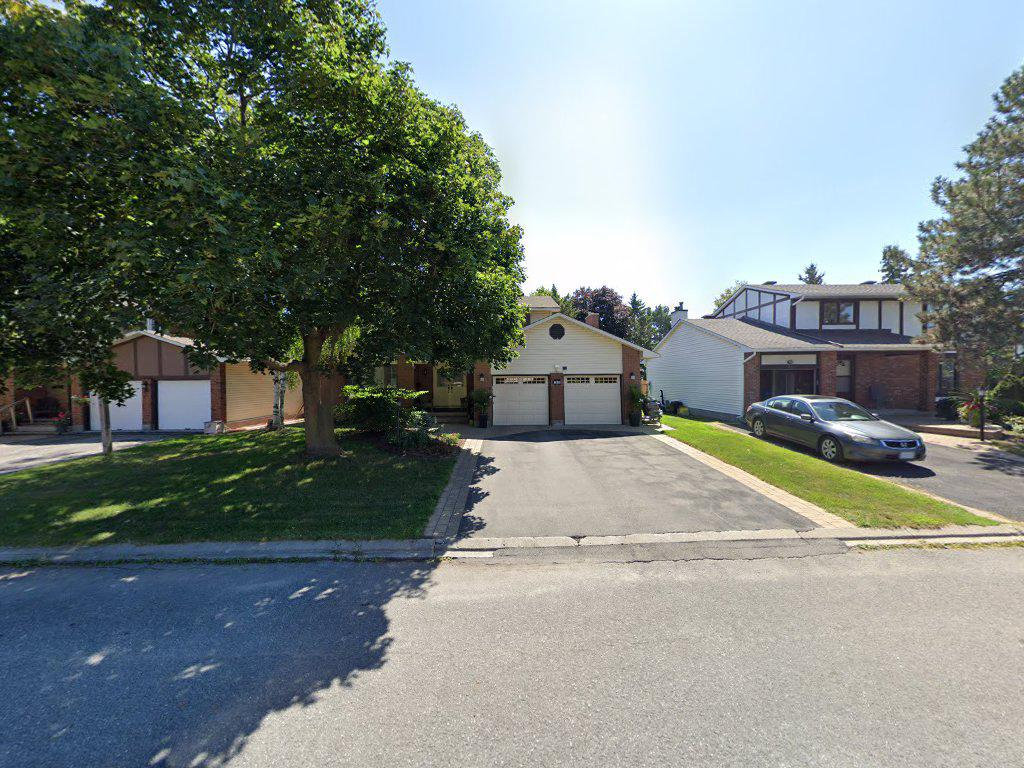trunk: (297, 321, 340, 472)
